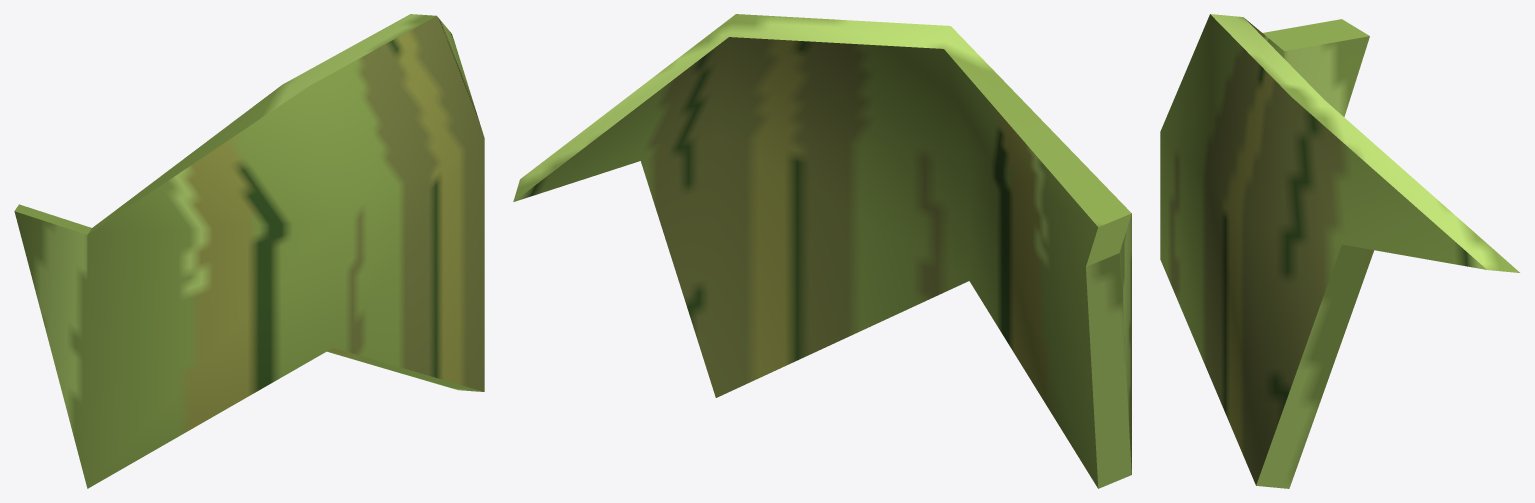
The model's file is b_gib_02.glb.
3 renders of one model, left to right at view 1: azimuth 30°, elevation 25°; view 2: azimuth 150°, elevation 25°; view 3: azimuth 270°, elevation 25°, orthographic. The views are drawn at different scales.
Parts seen in each view (by area): view 1: gib#03; view 2: gib#03; view 3: gib#03.
Boxes of the visible parts, x1,y1,x2,y2 form: gib#03: (14,14,484,488); gib#03: (513,14,1131,488); gib#03: (1160,14,1519,488).
Bounding box in the file's own units: 0.3686 × 0.2616 × 0.2236.
Materials: 1 (1 with a texture image).
